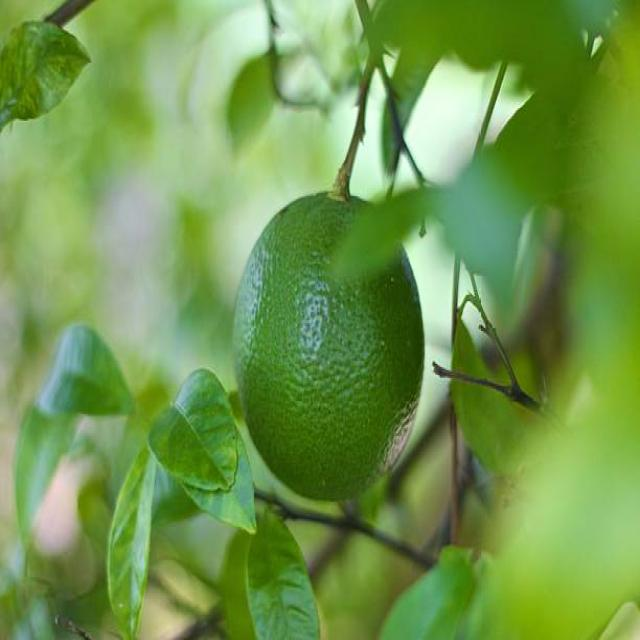Unripe: (230, 188, 425, 504)
